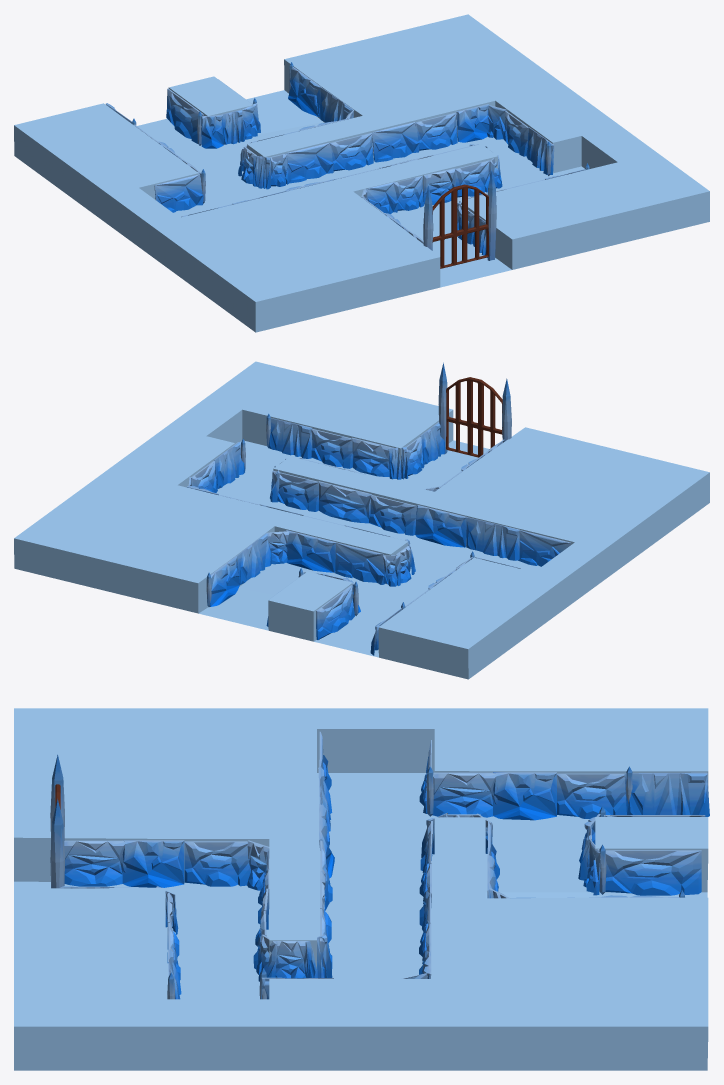
File: LEVEL.fbx
3 renders of one model, top to bottom at view 1: azimuth 30°, elevation 25°; view 2: azimuth 150°, elevation 25°; view 3: azimuth 270°, elevation 25°, orthographic. The views are drawn at different scales.
Parts seen in each view (by area): view 1: Cube, DOOR, wall_01.009, wall_01.008, wall_01.005, wall_05.019, wall_05.020, wall_05.018, wall_03.020, wall_03.017, wall_05.015, wall_05.013 (+13 smaller); view 2: Cube, DOOR, wall_02.022, wall_03.019, wall_04.021, wall_03.018, wall_01.010, wall_05.023, wall_02.020, wall_05.012, wall_05.024, wall_05.018 (+13 smaller); view 3: Cube, wall_05.021, wall_02.009, wall_03.013, wall_05.010, wall_05.009, wall_03.012, wall_04.007, wall_04.008, wall_04.012, link.006, wall_04.011 (+5 smaller).
Part boxes in pixels (x1=…): Cube: x1=14, y1=14, x2=709, y2=332; DOOR: x1=432, y1=184, x2=488, y2=268; wall_01.009: x1=372, y1=122, x2=419, y2=162; wall_01.008: x1=285, y1=142, x2=333, y2=183; wall_01.005: x1=154, y1=174, x2=203, y2=212; wall_05.019: x1=330, y1=133, x2=373, y2=171; wall_05.020: x1=415, y1=112, x2=457, y2=150; wall_05.018: x1=166, y1=88, x2=203, y2=143; wall_03.020: x1=288, y1=67, x2=321, y2=116; wall_03.017: x1=456, y1=104, x2=489, y2=142; wall_05.015: x1=455, y1=160, x2=489, y2=197; wall_05.013: x1=393, y1=175, x2=423, y2=210; Cube: x1=14, y1=361, x2=709, y2=679; DOOR: x1=446, y1=377, x2=502, y2=457; wall_02.022: x1=466, y1=517, x2=519, y2=560; wall_03.019: x1=415, y1=505, x2=467, y2=547; wall_04.021: x1=318, y1=481, x2=372, y2=523; wall_03.018: x1=285, y1=530, x2=336, y2=572; wall_01.010: x1=335, y1=542, x2=384, y2=584; wall_05.023: x1=369, y1=495, x2=416, y2=535; wall_02.020: x1=268, y1=418, x2=312, y2=458; wall_05.012: x1=272, y1=470, x2=318, y2=511; wall_05.024: x1=311, y1=429, x2=353, y2=468; wall_05.018: x1=316, y1=585, x2=354, y2=639; Cube: x1=14, y1=708, x2=708, y2=1070; wall_05.021: x1=605, y1=850, x2=701, y2=895; wall_02.009: x1=624, y1=772, x2=709, y2=816; wall_03.013: x1=493, y1=772, x2=556, y2=820; wall_05.010: x1=556, y1=773, x2=626, y2=818; wall_05.009: x1=184, y1=841, x2=250, y2=886; wall_03.012: x1=122, y1=840, x2=184, y2=887; wall_04.007: x1=64, y1=840, x2=127, y2=886; wall_04.008: x1=432, y1=772, x2=498, y2=817; wall_04.012: x1=272, y1=941, x2=307, y2=978; link.006: x1=50, y1=799, x2=64, y2=888; wall_04.011: x1=247, y1=840, x2=269, y2=890.
Size of the model in its own units: 21403 by 4218 by 19766.
8 materials, 6 textured.
